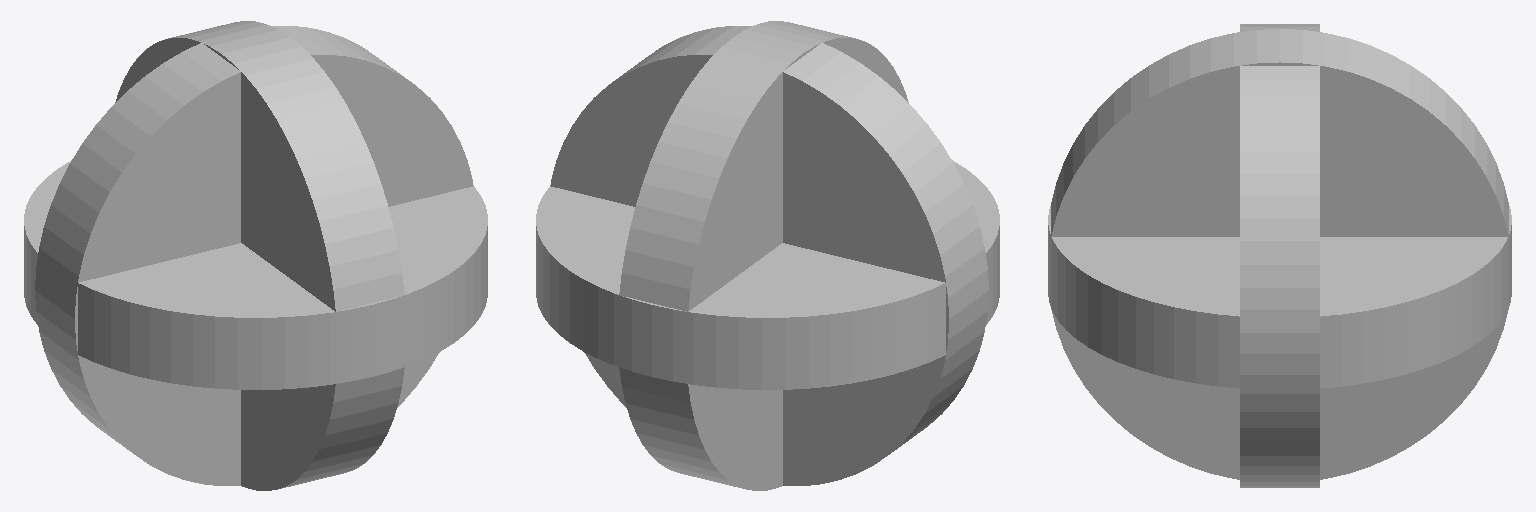
The model's file is wheel_puzzle.obj.
The picture shows the model from 3 angles: view 1: azimuth 30°, elevation 25°; view 2: azimuth 150°, elevation 25°; view 3: azimuth 270°, elevation 25°; orthographic projection.
Parts seen in each view (by area): view 1: Maple; view 2: Maple; view 3: Maple.
Boxes of the visible parts, <box> form: Maple: <box>24,21,487,490</box>; Maple: <box>536,21,999,490</box>; Maple: <box>1048,24,1511,487</box>.
Size of the model in its own units: 0.07 by 0.07 by 0.07.